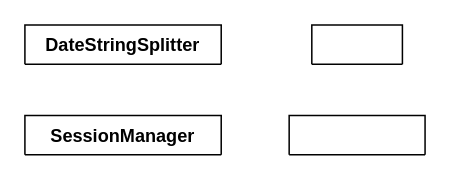
The diagram is 450 pixels wide and 180 high, and some of its shapes have lost their labels. The centre of each missing label's shape, as x and y in pixels:
"HpptClient" goes at point 356,134.
"Utils" goes at point 356,43.
